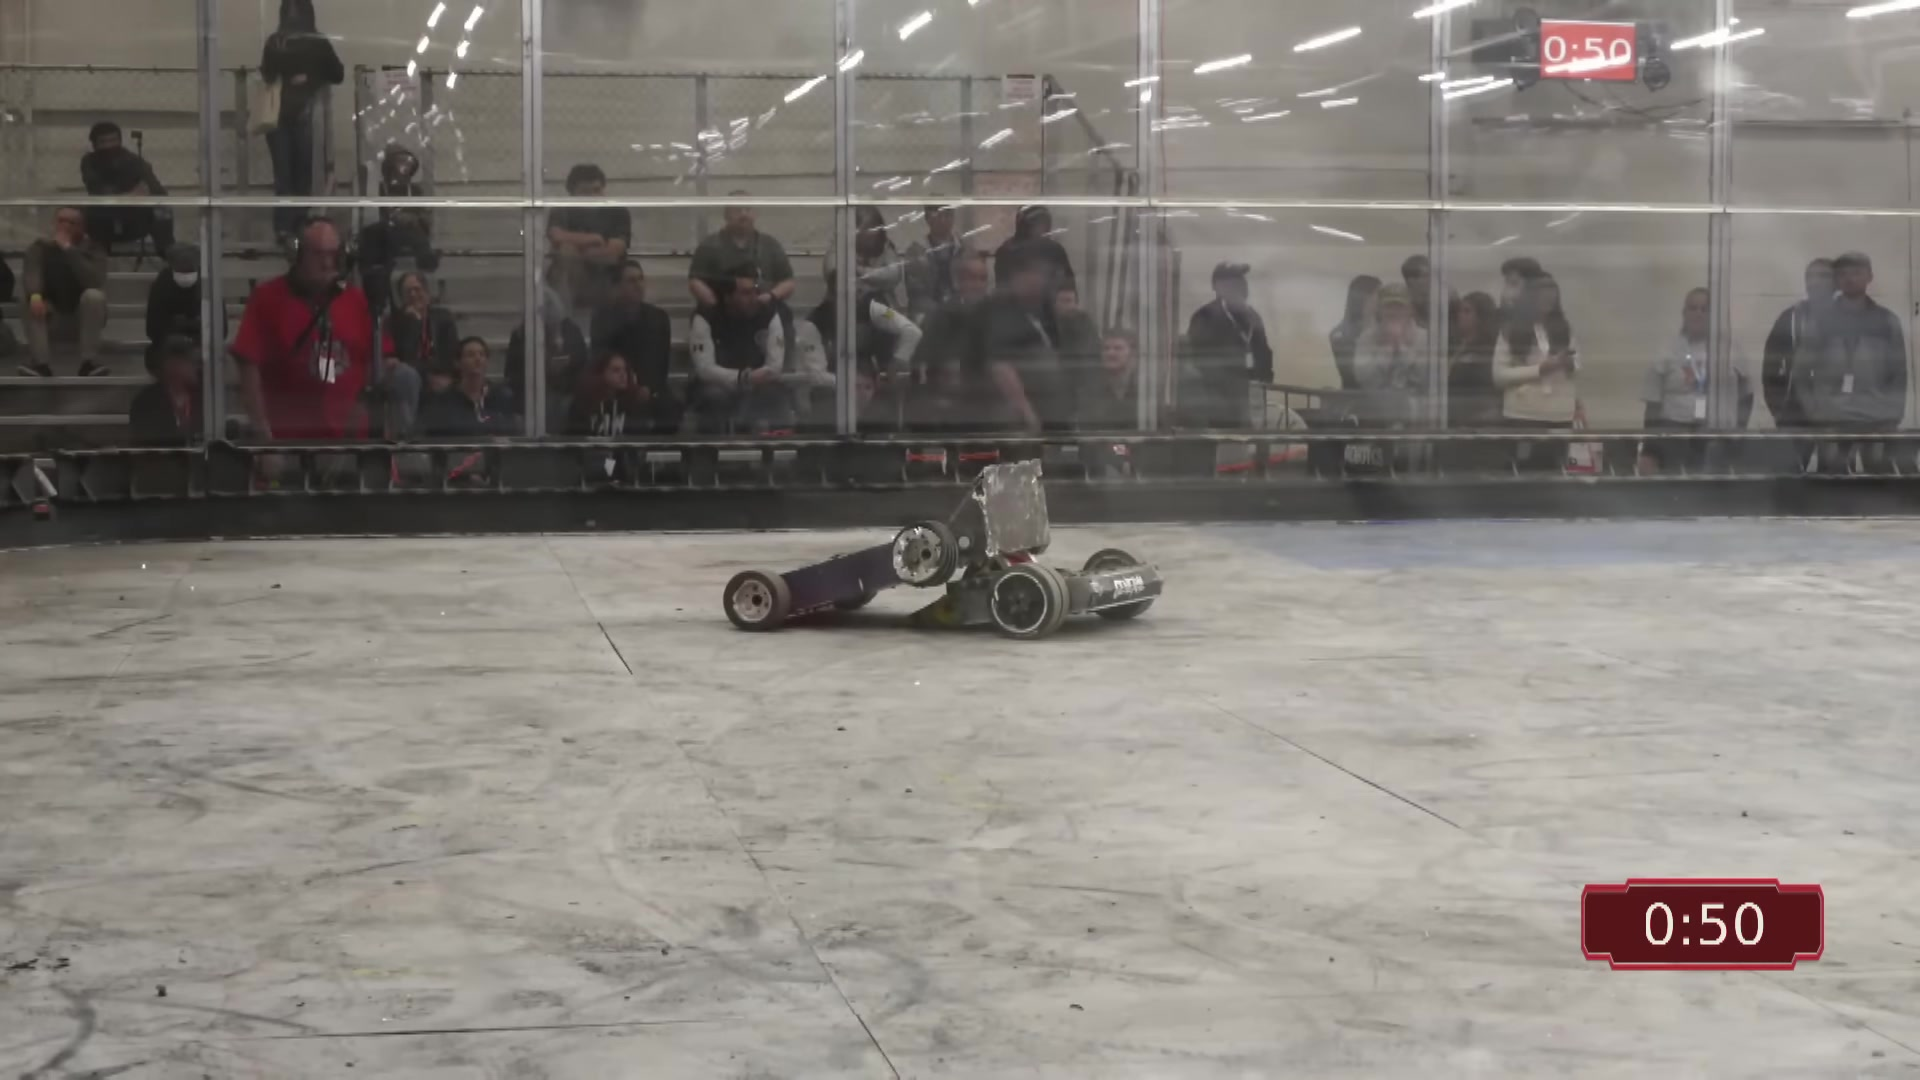combatbot: (727, 455, 1046, 632), (916, 546, 1167, 636)
